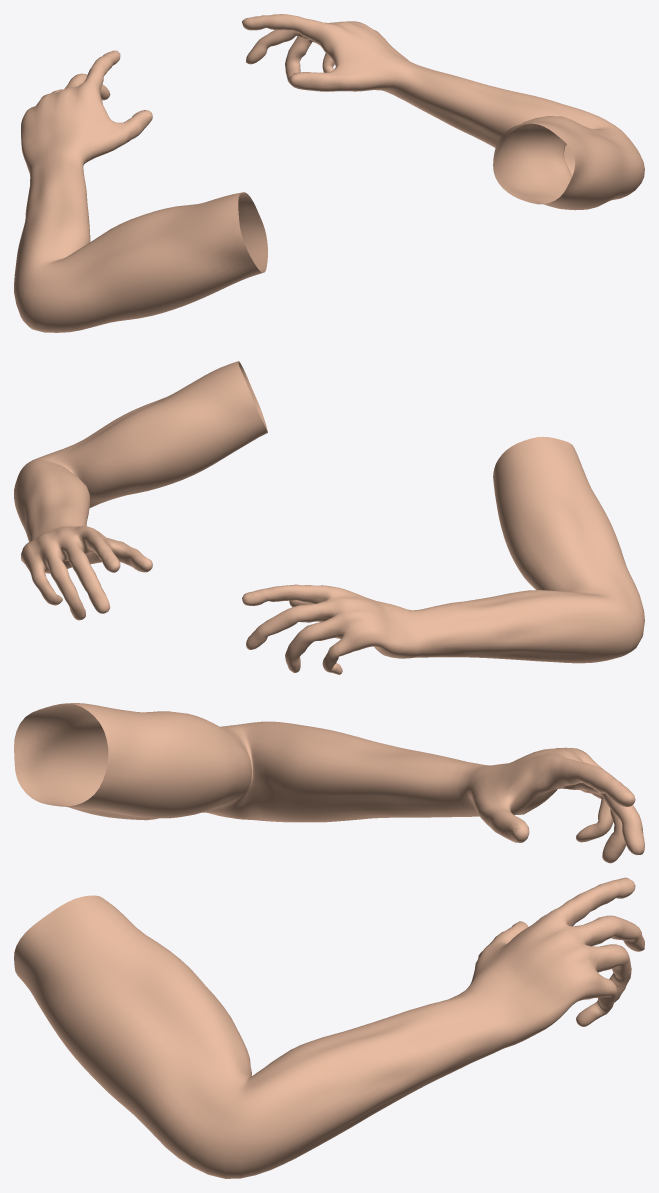
File: hands.obj
3 renders of one model, top to bottom at view 1: azimuth 30°, elevation 25°; view 2: azimuth 150°, elevation 25°; view 3: azimuth 270°, elevation 25°, orthographic. The views are drawn at different scales.
Visible parts, largest first — view 1: hands; view 2: hands; view 3: hands.
Boxes of the visible parts, x1=… form: hands: x1=14, y1=14, x2=644, y2=332; hands: x1=14, y1=361, x2=644, y2=674; hands: x1=14, y1=703, x2=644, y2=1178.
Bounding box in the file's own units: 104 × 23.32 × 69.19.
1 material, 1 textured.
